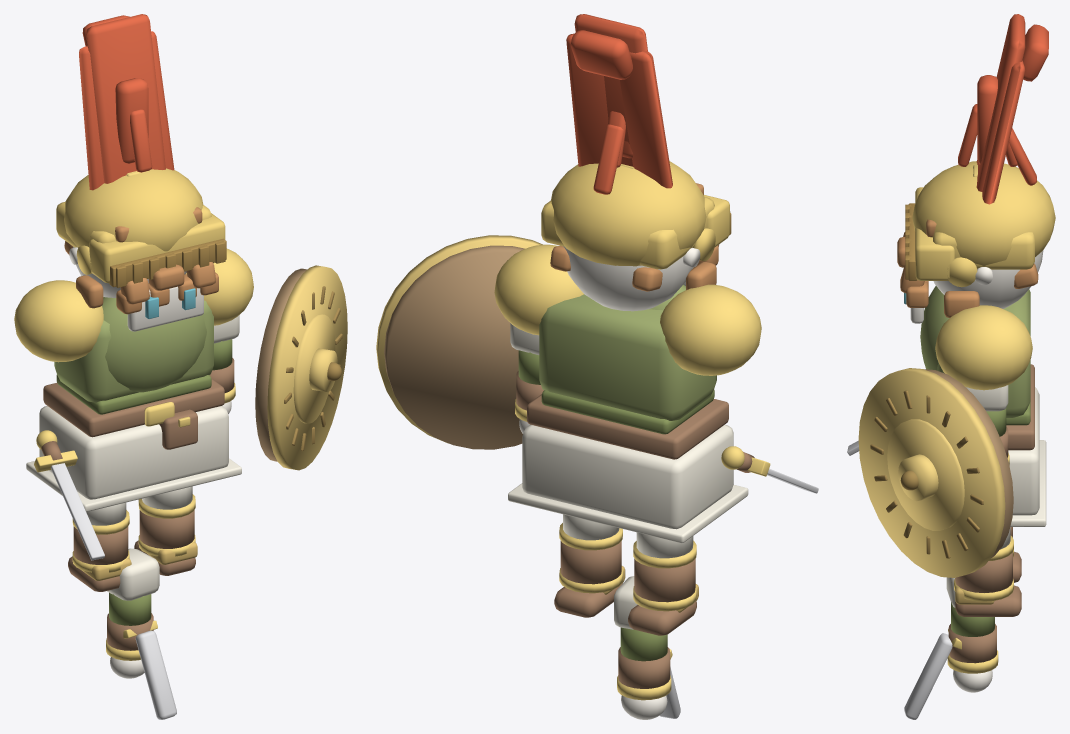
Rendered from knight.glb.
The picture shows the model from 3 angles, left to right: view 1: azimuth 30°, elevation 25°; view 2: azimuth 150°, elevation 25°; view 3: azimuth 270°, elevation 25°; orthographic projection. The views are drawn at different scales.
Parts seen in each view (by area): view 1: Body, Head, Shield, Plume, Arm_R, Leg_L, Leg_R, Sword, Arm_L, FaceBlock, HairOL_front_C, HairOL_side_L (+2 smaller); view 2: Body, Shield, Head, Plume, Leg_R, Leg_L, Arm_R, Arm_L, Sword; view 3: Shield, Head, Body, Plume, Arm_R, Leg_L, Arm_L, HairOL_side_R, HairOL_nape_R.
Part boxes in pixels (x1,y1,x2,y2): Body: (14,248,253,511); Head: (56,78,226,314); Shield: (255,265,347,470); Plume: (79,14,174,190); Arm_R: (106,548,176,719); Leg_L: (134,486,197,575); Leg_R: (68,502,131,591); Sword: (34,430,104,560); Arm_L: (209,315,239,413); FaceBlock: (127,286,203,331); HairOL_front_C: (148,264,184,290); HairOL_side_L: (76,275,103,308); Body: (494,244,761,543); Shield: (376,235,542,449); Head: (541,111,731,311); Plume: (566,14,672,188); Leg_R: (628,532,698,635); Leg_L: (554,514,625,617); Arm_R: (614,576,680,719); Arm_L: (510,323,543,433); Sword: (721,446,818,493); Shield: (858,368,1013,577); Head: (905,75,1055,308); Body: (920,286,1046,526); Plume: (976,14,1048,204); Arm_R: (904,577,998,719); Leg_L: (954,527,1021,616); Arm_L: (965,385,1009,465); HairOL_side_R: (944,291,979,317); HairOL_nape_R: (1014,263,1038,288).
Size of the model in its own units: 1.82 by 3.43 by 0.9391.
